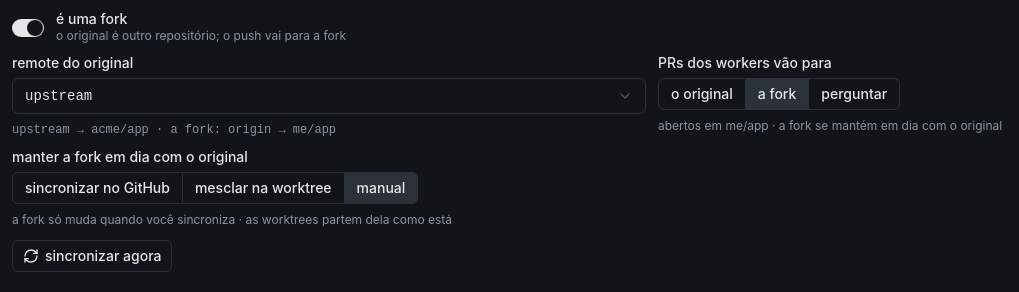
Scenario: sincronizar agora posts the manual sync and says what it answered: synced, already up to date, diverged, gh's refusal (#854)
Click the button "sincronizar agora". click: (92, 256)
box: [12, 240, 172, 272]
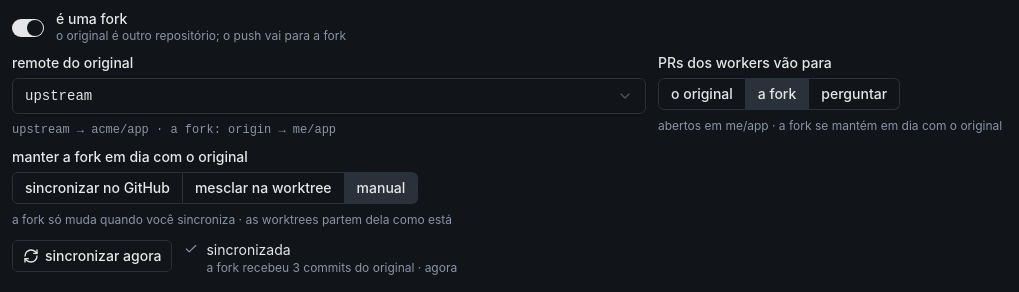
expect the message shows "sincronizada": met, box [206, 241, 291, 258]
expect the message shows "a fork recebeu 3 commits do original · agora": met, box [206, 260, 457, 275]
Click the button "sincronizar agora". click: (92, 256)
box: [12, 240, 172, 272]
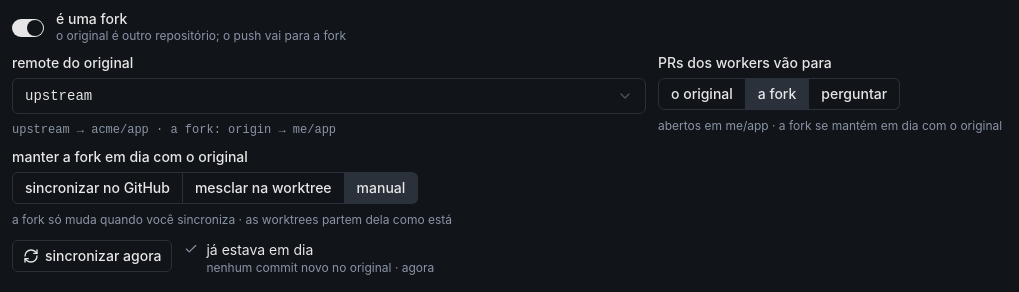
expect the message shows "já estava em dia": met, box [206, 241, 313, 258]
expect the message shows "nenhum commit novo no original · agora": met, box [206, 260, 434, 275]
Click the button "sincronizar agora". click: (92, 256)
box: [12, 240, 172, 272]
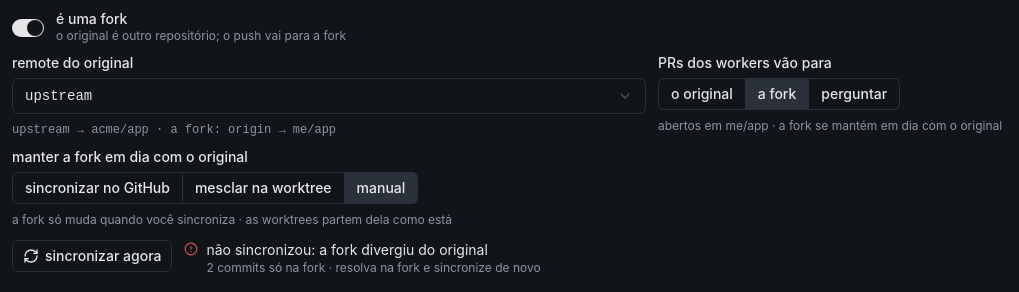
expect the message shows "não sincronizou: a fork divergiu do original": met, box [206, 241, 488, 258]
expect the message shows "2 commits só na fork · resolva na fork e sincronize de novo": met, box [206, 260, 541, 275]
Click the button "sincronizar agora". click: (92, 256)
box: [12, 240, 172, 272]
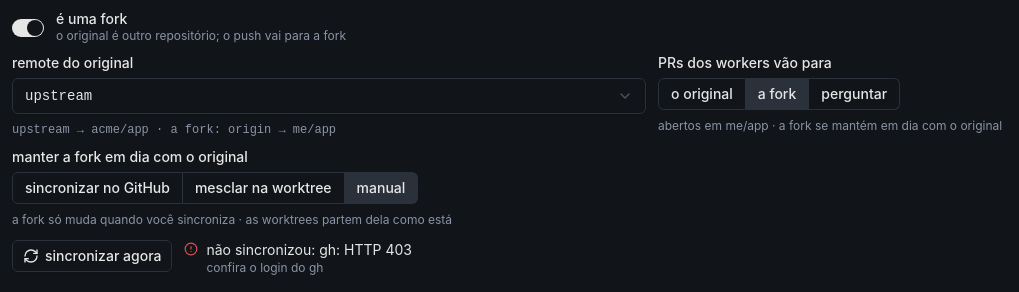
expect the message shows "não sincronizou: gh: HTTP 403": met, box [206, 241, 412, 258]
expect the message shows "confira o login do gh": met, box [206, 260, 323, 275]
